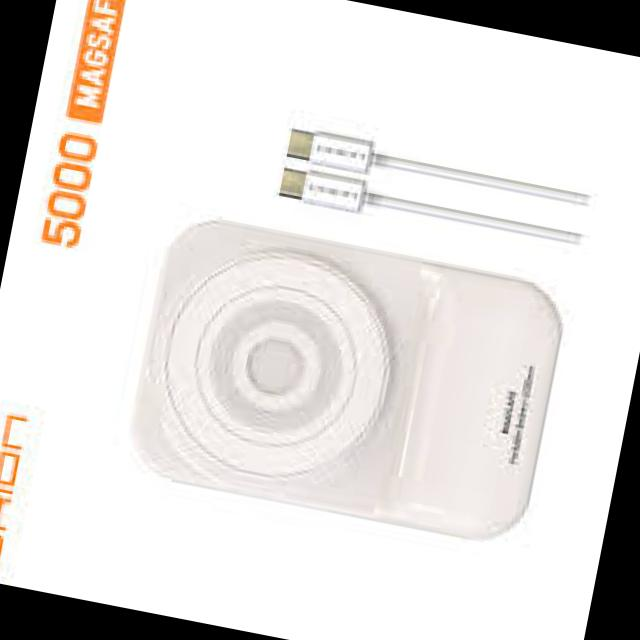power_bank: (116, 200, 571, 549)
